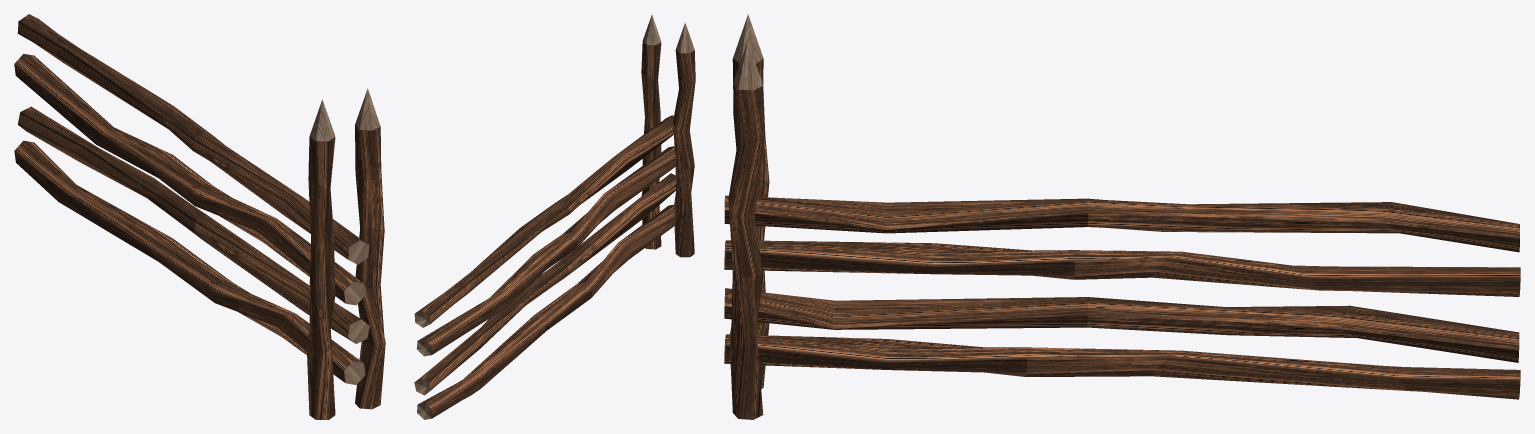
The model's file is WoodenFence.fbx.
3 views of the same model, side by side, from view 1: azimuth 30°, elevation 25°; view 2: azimuth 150°, elevation 25°; view 3: azimuth 270°, elevation 25° (orthographic). The views are drawn at different scales.
Parts seen in each view (by area): view 1: WoodenFence; view 2: WoodenFence; view 3: WoodenFence.
Boxes of the visible parts, x1,y1,x2,y2 form: WoodenFence: (14, 14, 385, 419); WoodenFence: (414, 14, 695, 419); WoodenFence: (724, 14, 1520, 419).
Size of the model in its own units: 0.5602 by 4.46 by 2.31.
